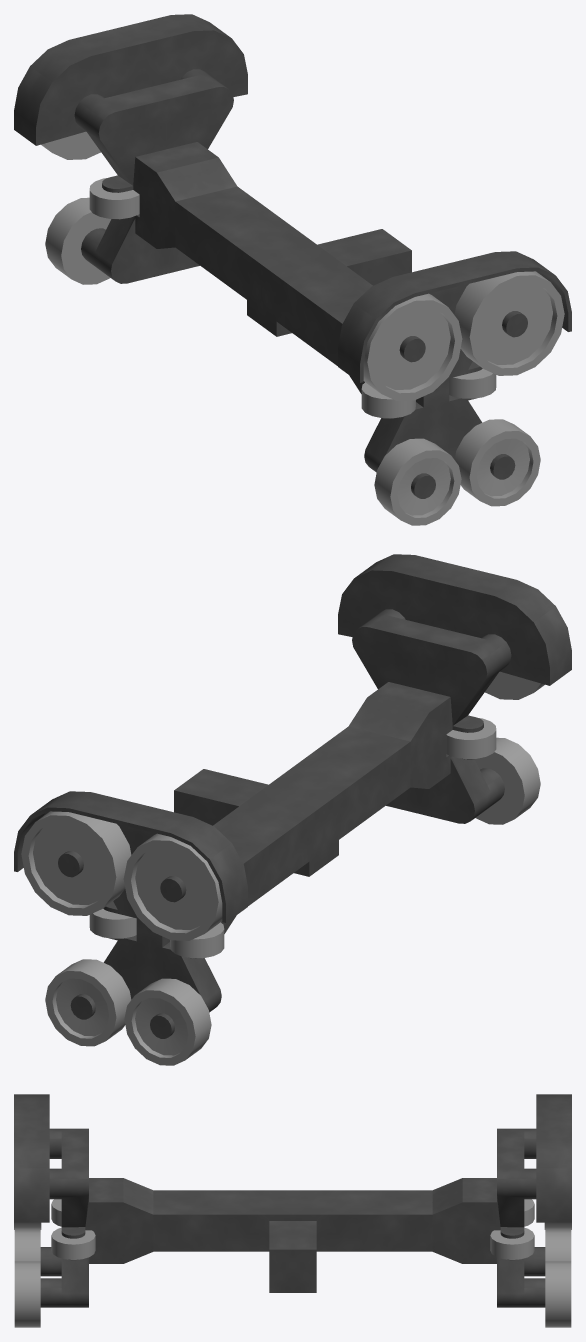
File: wheels.obj
3 views of the same model, one above another, from view 1: azimuth 30°, elevation 25°; view 2: azimuth 150°, elevation 25°; view 3: azimuth 270°, elevation 25° (orthographic). The views are drawn at different scales.
Parts seen in each view (by area): view 1: Cube.006, Cube.001; view 2: Cube.006, Cube.001; view 3: Cube.006, Cube.001.
Part boxes in pixels (box(x1,y1,x2,y2)): Cube.006: box(14, 14, 571, 525); Cube.001: box(175, 186, 411, 365); Cube.006: box(14, 554, 571, 1065); Cube.001: box(174, 726, 410, 905); Cube.006: box(14, 1094, 571, 1327); Cube.001: box(153, 1190, 432, 1292).
Bounding box in the file's own units: 0.7366 × 0.781 × 2.08.
